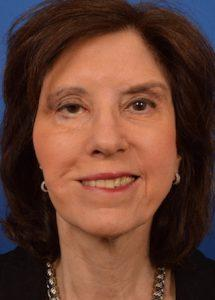strokeEyeWeak: (41, 81, 168, 121)
strokeMouthWeak: (69, 166, 145, 203)
